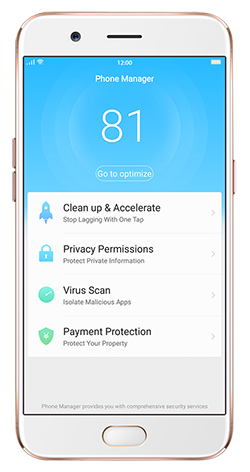Phone: (13, 10, 234, 461)
